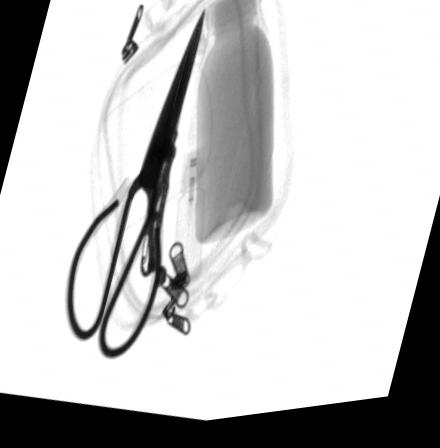Knife: (138, 53, 188, 284)
Scissors: (63, 12, 205, 362)
